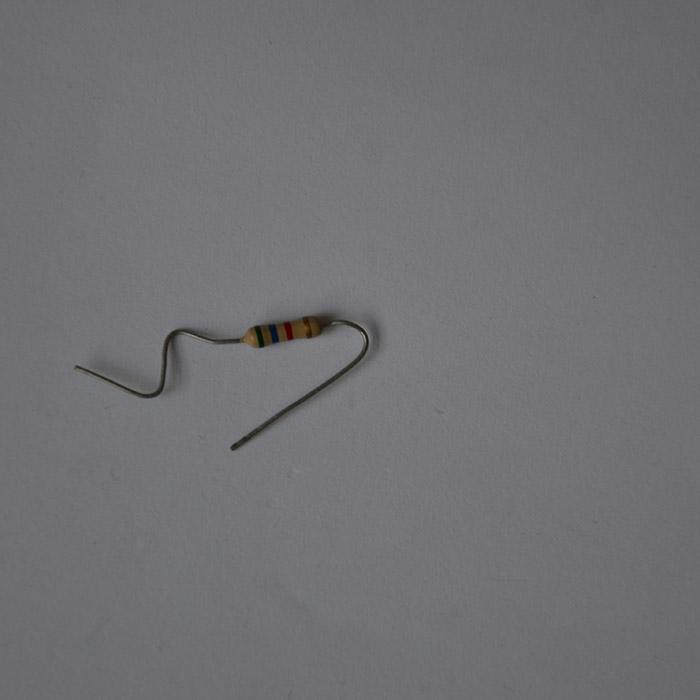resistor: (241, 315, 324, 348)
